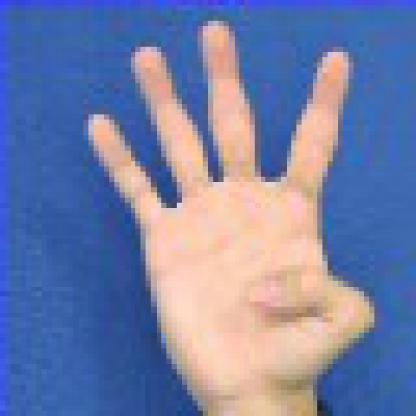four: (73, 11, 383, 404)
